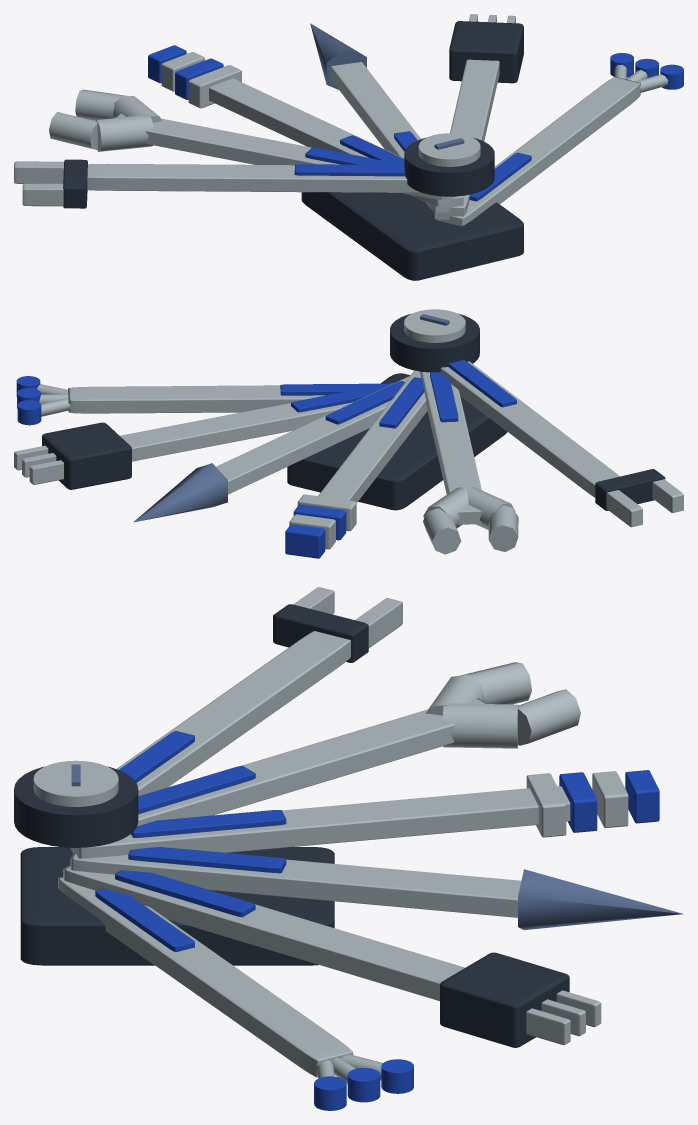
The model's file is multitool.glb.
The picture shows the model from 3 angles, top to bottom: view 1: azimuth 30°, elevation 25°; view 2: azimuth 150°, elevation 25°; view 3: azimuth 270°, elevation 25°; orthographic projection. The views are drawn at different scales.
Parts seen in each view (by area): view 1: Engineering multitool; view 2: Engineering multitool; view 3: Engineering multitool.
Boxes of the visible parts, x1,y1,x2,y2 form: Engineering multitool: (14,14,683,280); Engineering multitool: (14,309,683,558); Engineering multitool: (14,587,682,1110).
Bounding box in the file's own units: 3.22 × 0.5235 × 2.05.
